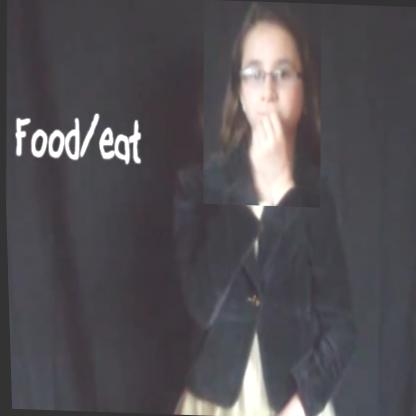Food: (197, 0, 326, 207)
